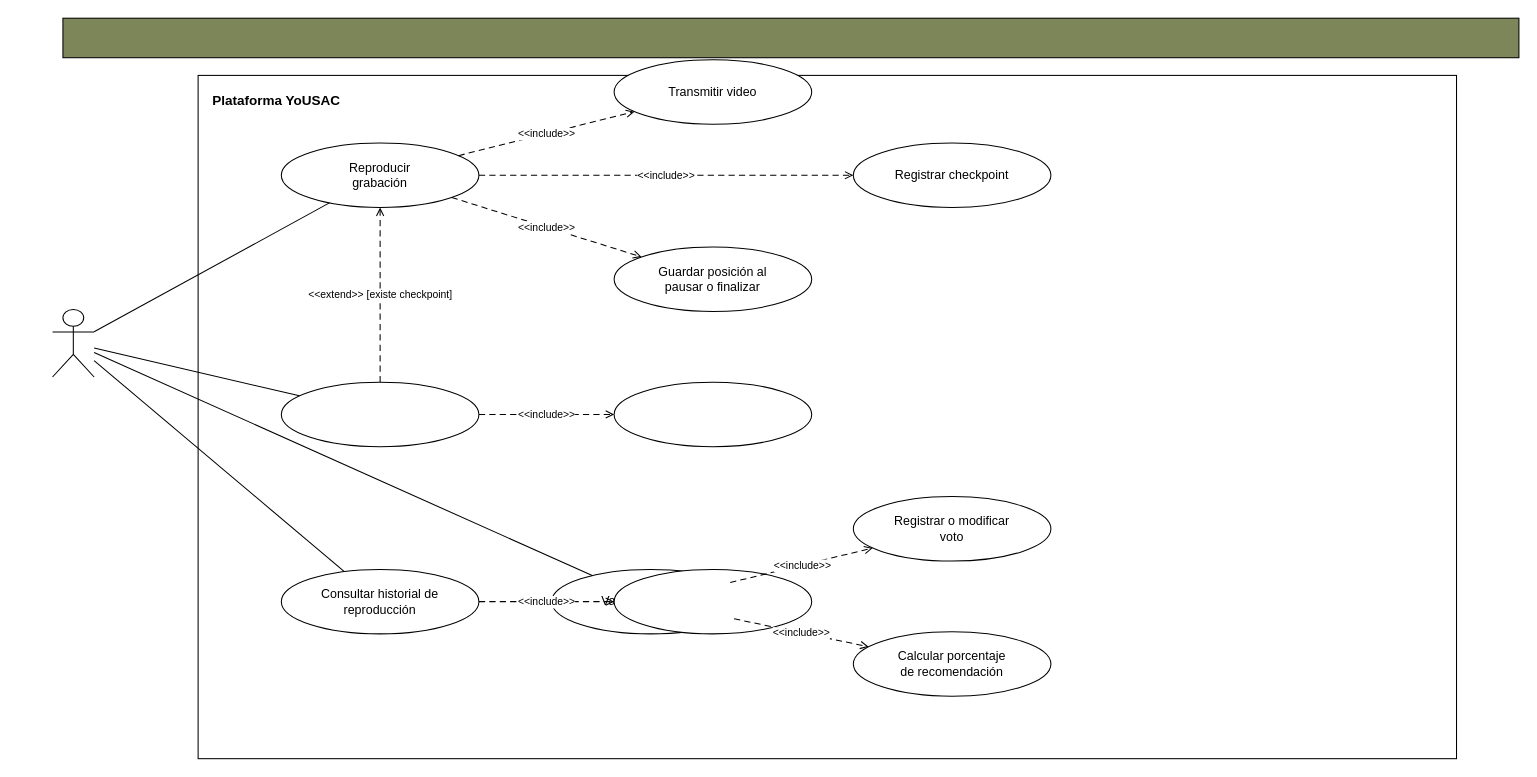
Some shapes in this 1537 by 777 pixel diagram are drawn without their labels. The centre of each missing label's shape, as x and y in pixels:
Obtener últimas 20 reproducciones: pixel 712 601
Plataforma YoUSAC — Reproductor, checkpoint y valoración: pixel 790 37
Reanudar grabación: pixel 379 414
Recuperar checkpoint: pixel 712 414
Usuario institucional: pixel 72 342
